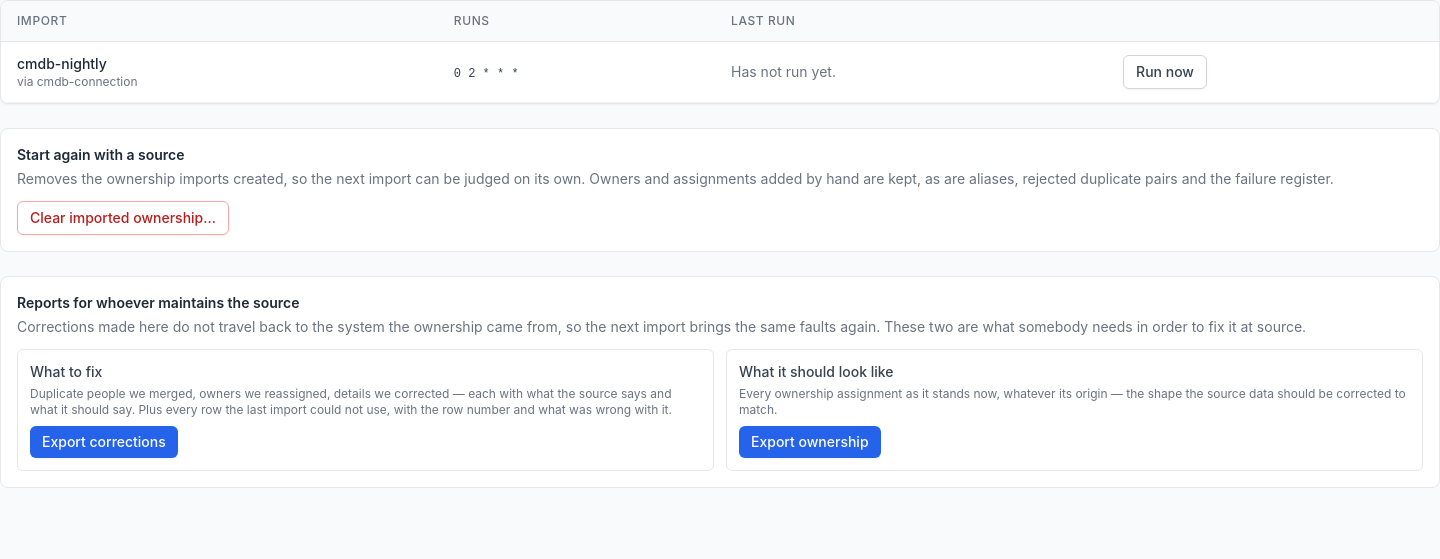
Test: clearing imported ownership › removes only after the confirmation, and says what went
What coordinates should you click on to do the following:
click the button "Clear imported ownership…"
I would click on:
 (123, 218)
Its box is [17,201,229,235].
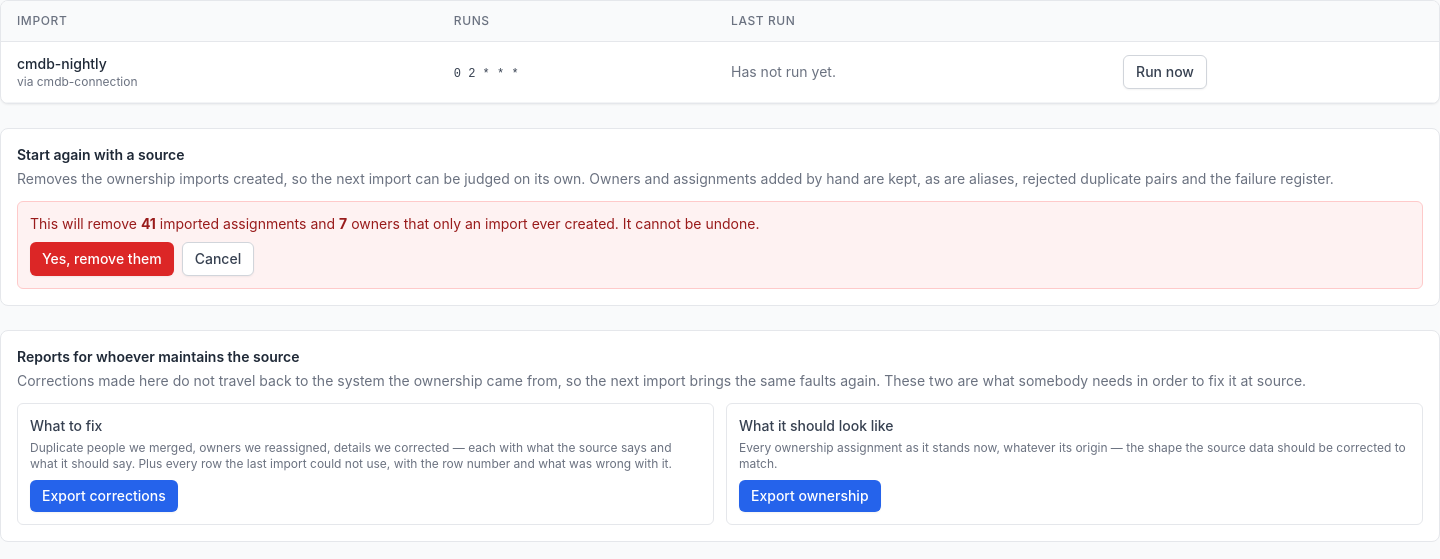
What coordinates should you click on to do the following:
click the button "Yes, remove them"
I would click on:
 (102, 259)
Its box is [30,242,174,276].
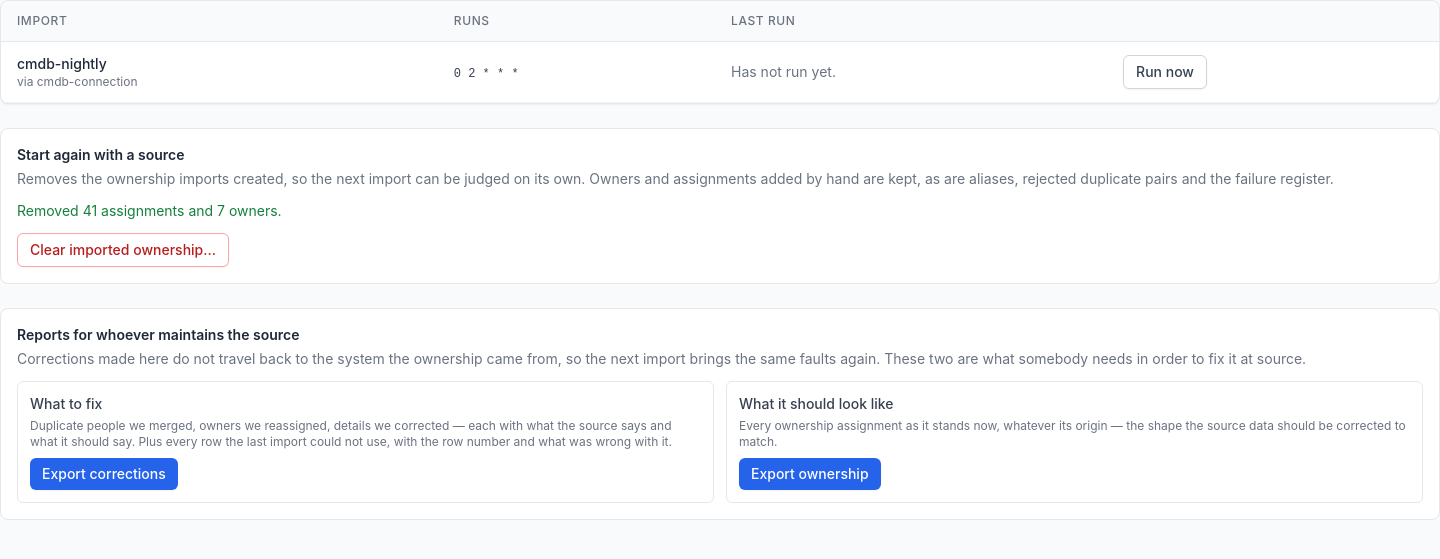
Expected: the text "Removed 41 assignments and 7 owners." is shown, [17,202,282,219]
